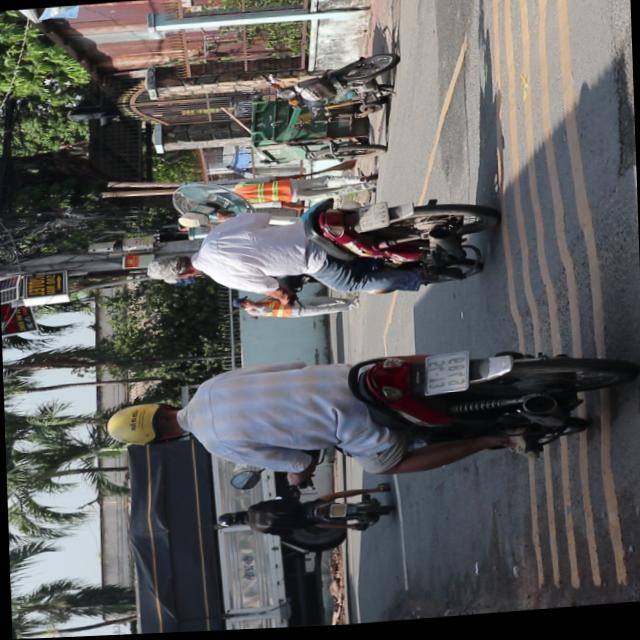helmet: (102, 397, 188, 449)
licenseplate: (103, 332, 636, 503), (136, 189, 494, 317)
motorcyclist: (144, 251, 202, 287)
nohelmet: (423, 355, 467, 397), (356, 205, 386, 233)
